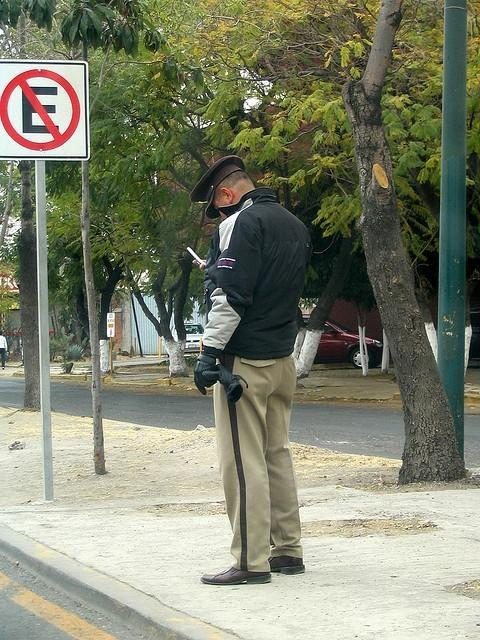car: (303, 314, 383, 370), (170, 322, 206, 353)
